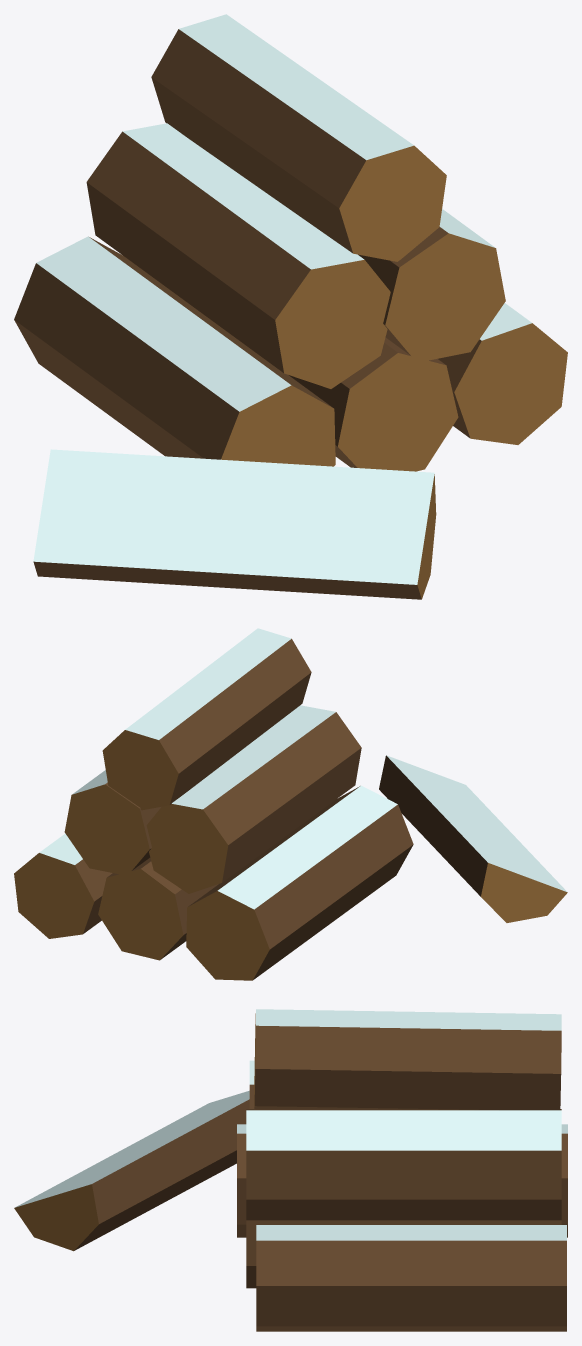
File: nature_logs-snow.fbx
The picture shows the model from 3 angles, top to bottom: view 1: azimuth 30°, elevation 25°; view 2: azimuth 150°, elevation 25°; view 3: azimuth 270°, elevation 25°; orthographic projection. The views are drawn at different scales.
Parts seen in each view (by area): view 1: nature_logs_snow; view 2: nature_logs_snow; view 3: nature_logs_snow.
Part boxes in pixels (box(x1,y1,x2,y2)): nature_logs_snow: box(14, 14, 567, 599); nature_logs_snow: box(14, 628, 567, 980); nature_logs_snow: box(14, 1009, 567, 1331).
Size of the model in its own units: 191 by 105 by 200.
